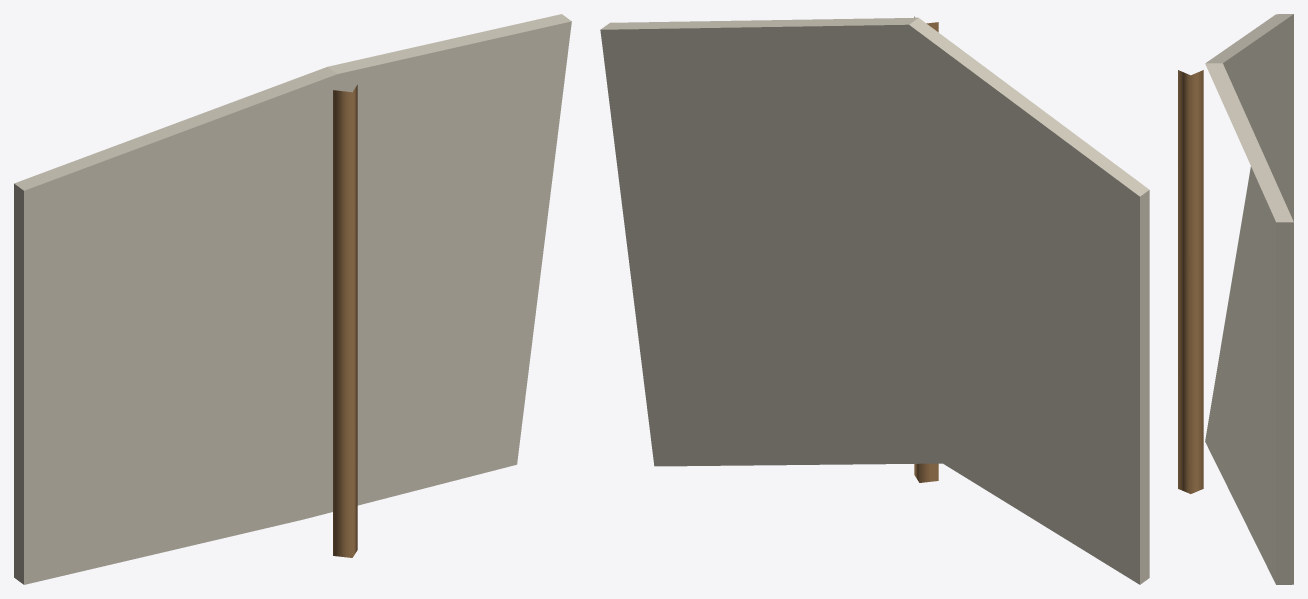
File: book.glb
The picture shows the model from 3 angles, left to right: view 1: azimuth 30°, elevation 25°; view 2: azimuth 150°, elevation 25°; view 3: azimuth 270°, elevation 25°; orthographic projection. The views are drawn at different scales.
Visible parts, largest first — view 1: book; view 2: book; view 3: book.
Boxes of the visible parts, x1,y1,x2,y2 form: book: [14, 14, 571, 584]; book: [600, 16, 1149, 584]; book: [1178, 14, 1293, 584].
Bounding box in the file's own units: 0.3601 × 0.2971 × 0.0733.
